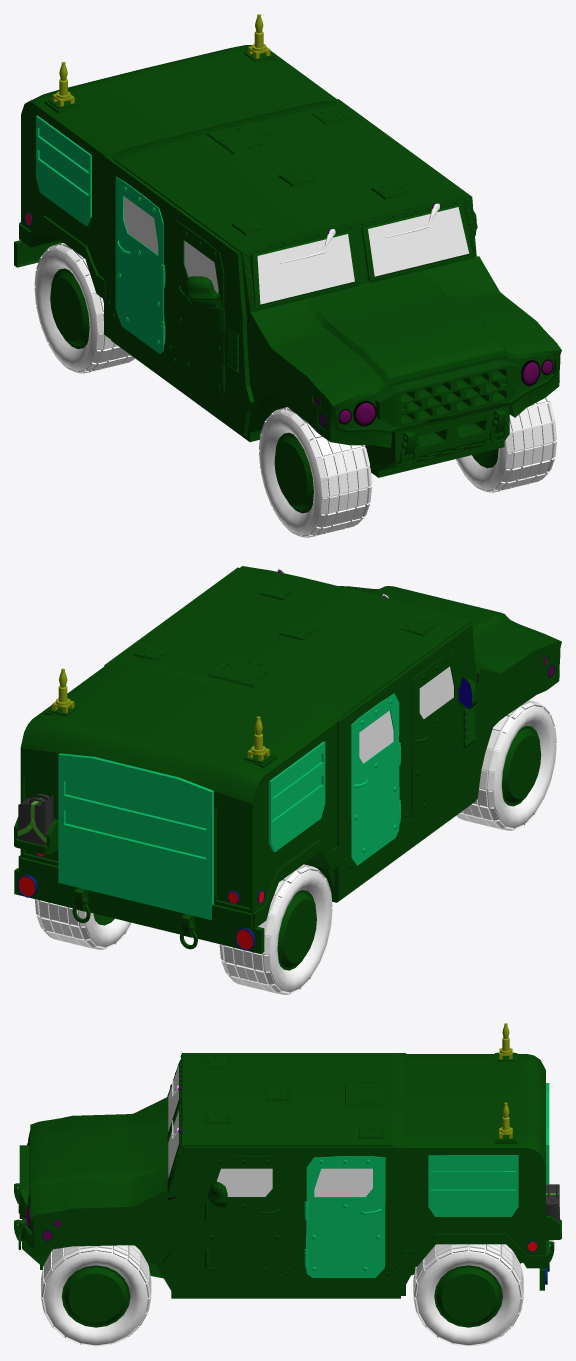
Rendered from Mesh_K151_WoodLand01.fbx.
The picture shows the model from 3 angles, top to bottom: view 1: azimuth 30°, elevation 25°; view 2: azimuth 150°, elevation 25°; view 3: azimuth 270°, elevation 25°; orthographic projection. The views are drawn at different scales.
Parts seen in each view (by area): view 1: Body, Roof, Trunk, Tier_Front, Wiondw05, Tier_Back, Door_Front_R, Door_Back_R, Door_Trunk_R, Window04, Window03; view 2: Trunk, Roof, Body, Door_Trunk, Tier_Back, Tier_Front, Door_Front_R, Door_Back_R, Door_Trunk_R, Window03, Window04; view 3: Body, Trunk, Roof, Tier_Back, Tier_Front, Door_Front_L, Door_Back_L, Door_Trunk_L, Window02, Window01, Wiondw05, Door_Trunk.
Boxes of the visible parts, x1,y1,x2,y2 form: Body: (103,99,561,477); Roof: (112,102,476,320); Trunk: (14,14,336,299); Tier_Front: (259,395,556,537); Wiondw05: (257,207,469,304); Tier_Back: (34,243,134,373); Door_Front_R: (176,221,225,397); Door_Back_R: (115,177,165,353); Door_Trunk_R: (36,115,91,226); Window04: (124,196,158,254); Window03: (184,240,218,293); Trunk: (14,664,340,953); Roof: (112,566,477,719); Body: (104,567,561,902); Door_Trunk: (58,753,213,920); Tier_Back: (34,864,332,994); Tier_Front: (456,700,556,830); Door_Front_R: (411,649,477,821); Door_Back_R: (351,693,400,865); Door_Trunk_R: (268,741,325,852); Window03: (419,666,453,718); Window04: (359,710,393,763); Body: (14,1053,522,1298); Trunk: (403,1023,561,1290); Roof: (167,1053,403,1197); Tier_Back: (413,1244,523,1346); Tier_Front: (41,1245,151,1346); Door_Front_L: (204,1156,285,1277); Door_Back_L: (304,1156,385,1277); Door_Trunk_L: (428,1155,518,1216); Window02: (314,1168,372,1196); Window01: (216,1168,272,1196); Wiondw05: (168,1065,178,1177); Door_Trunk: (546,1083,549,1251).
Size of the model in its own units: 270 by 255 by 533.
